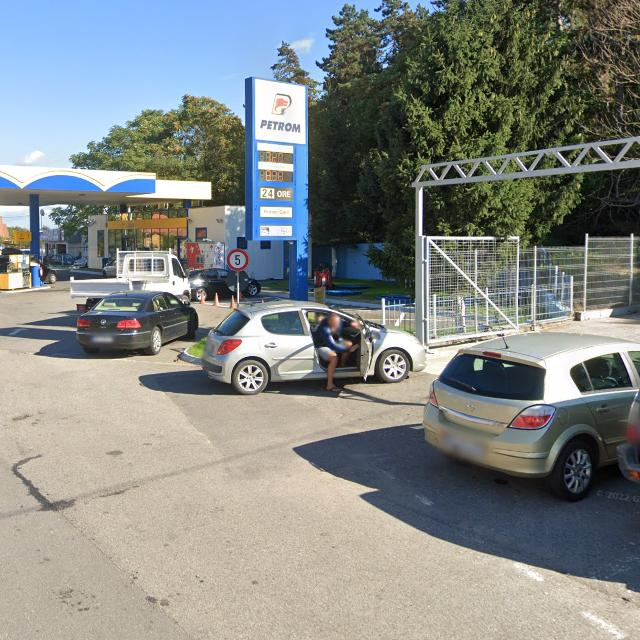forb_speed_over_5: (227, 248, 248, 270)
